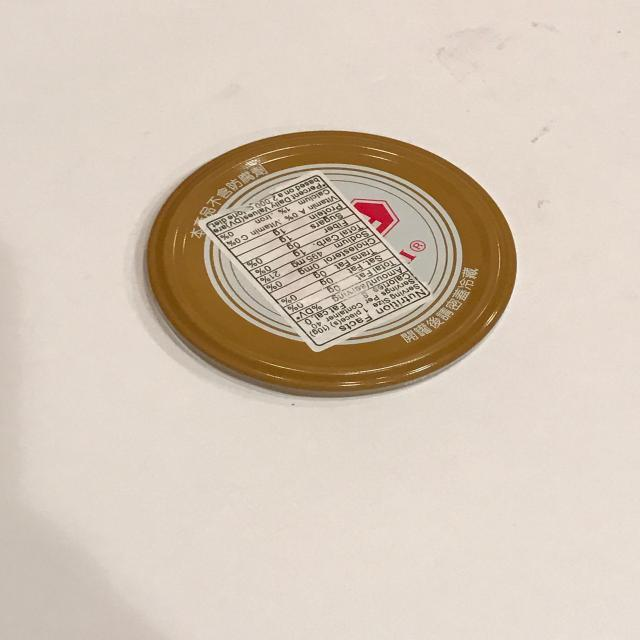metal: (142, 130, 522, 396)
